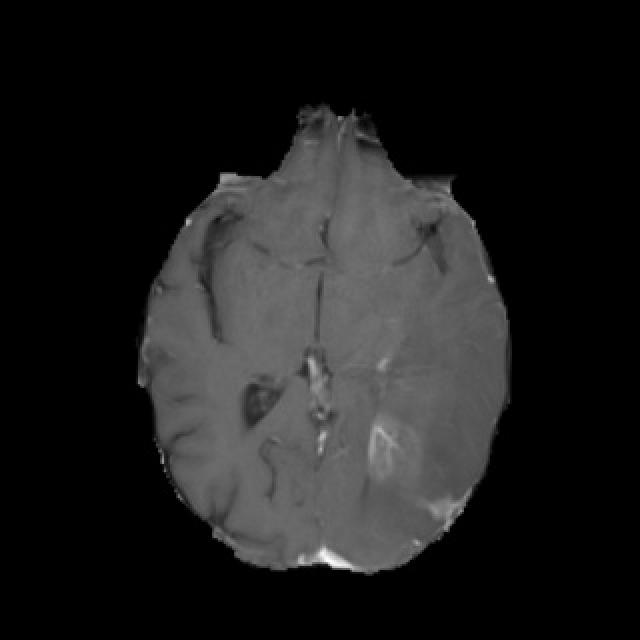positive: (366, 414, 424, 486)
